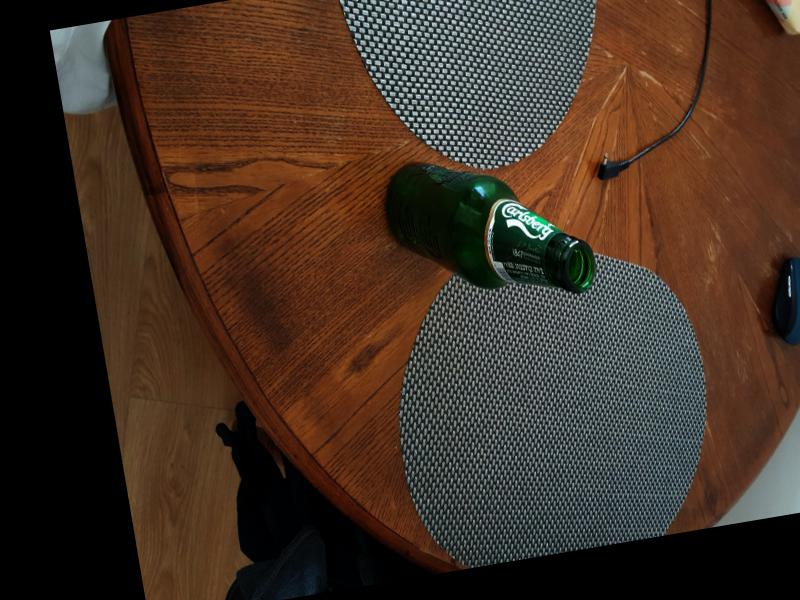Beer: (373, 128, 599, 325)
